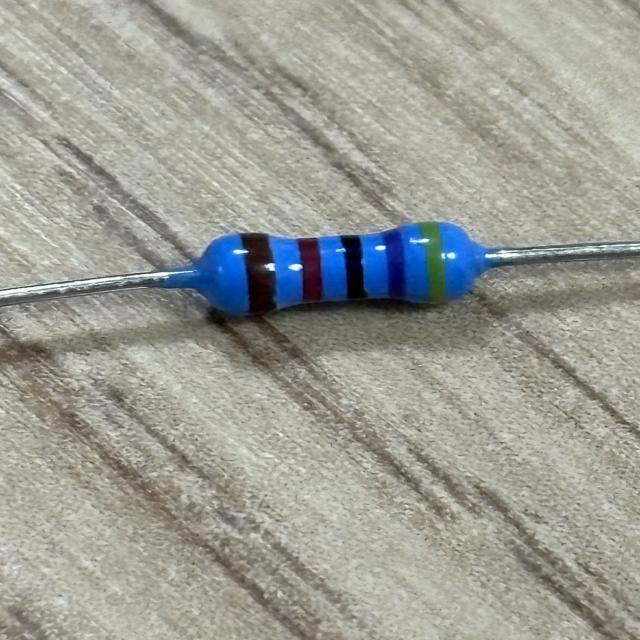resistor: (210, 212, 462, 324)
